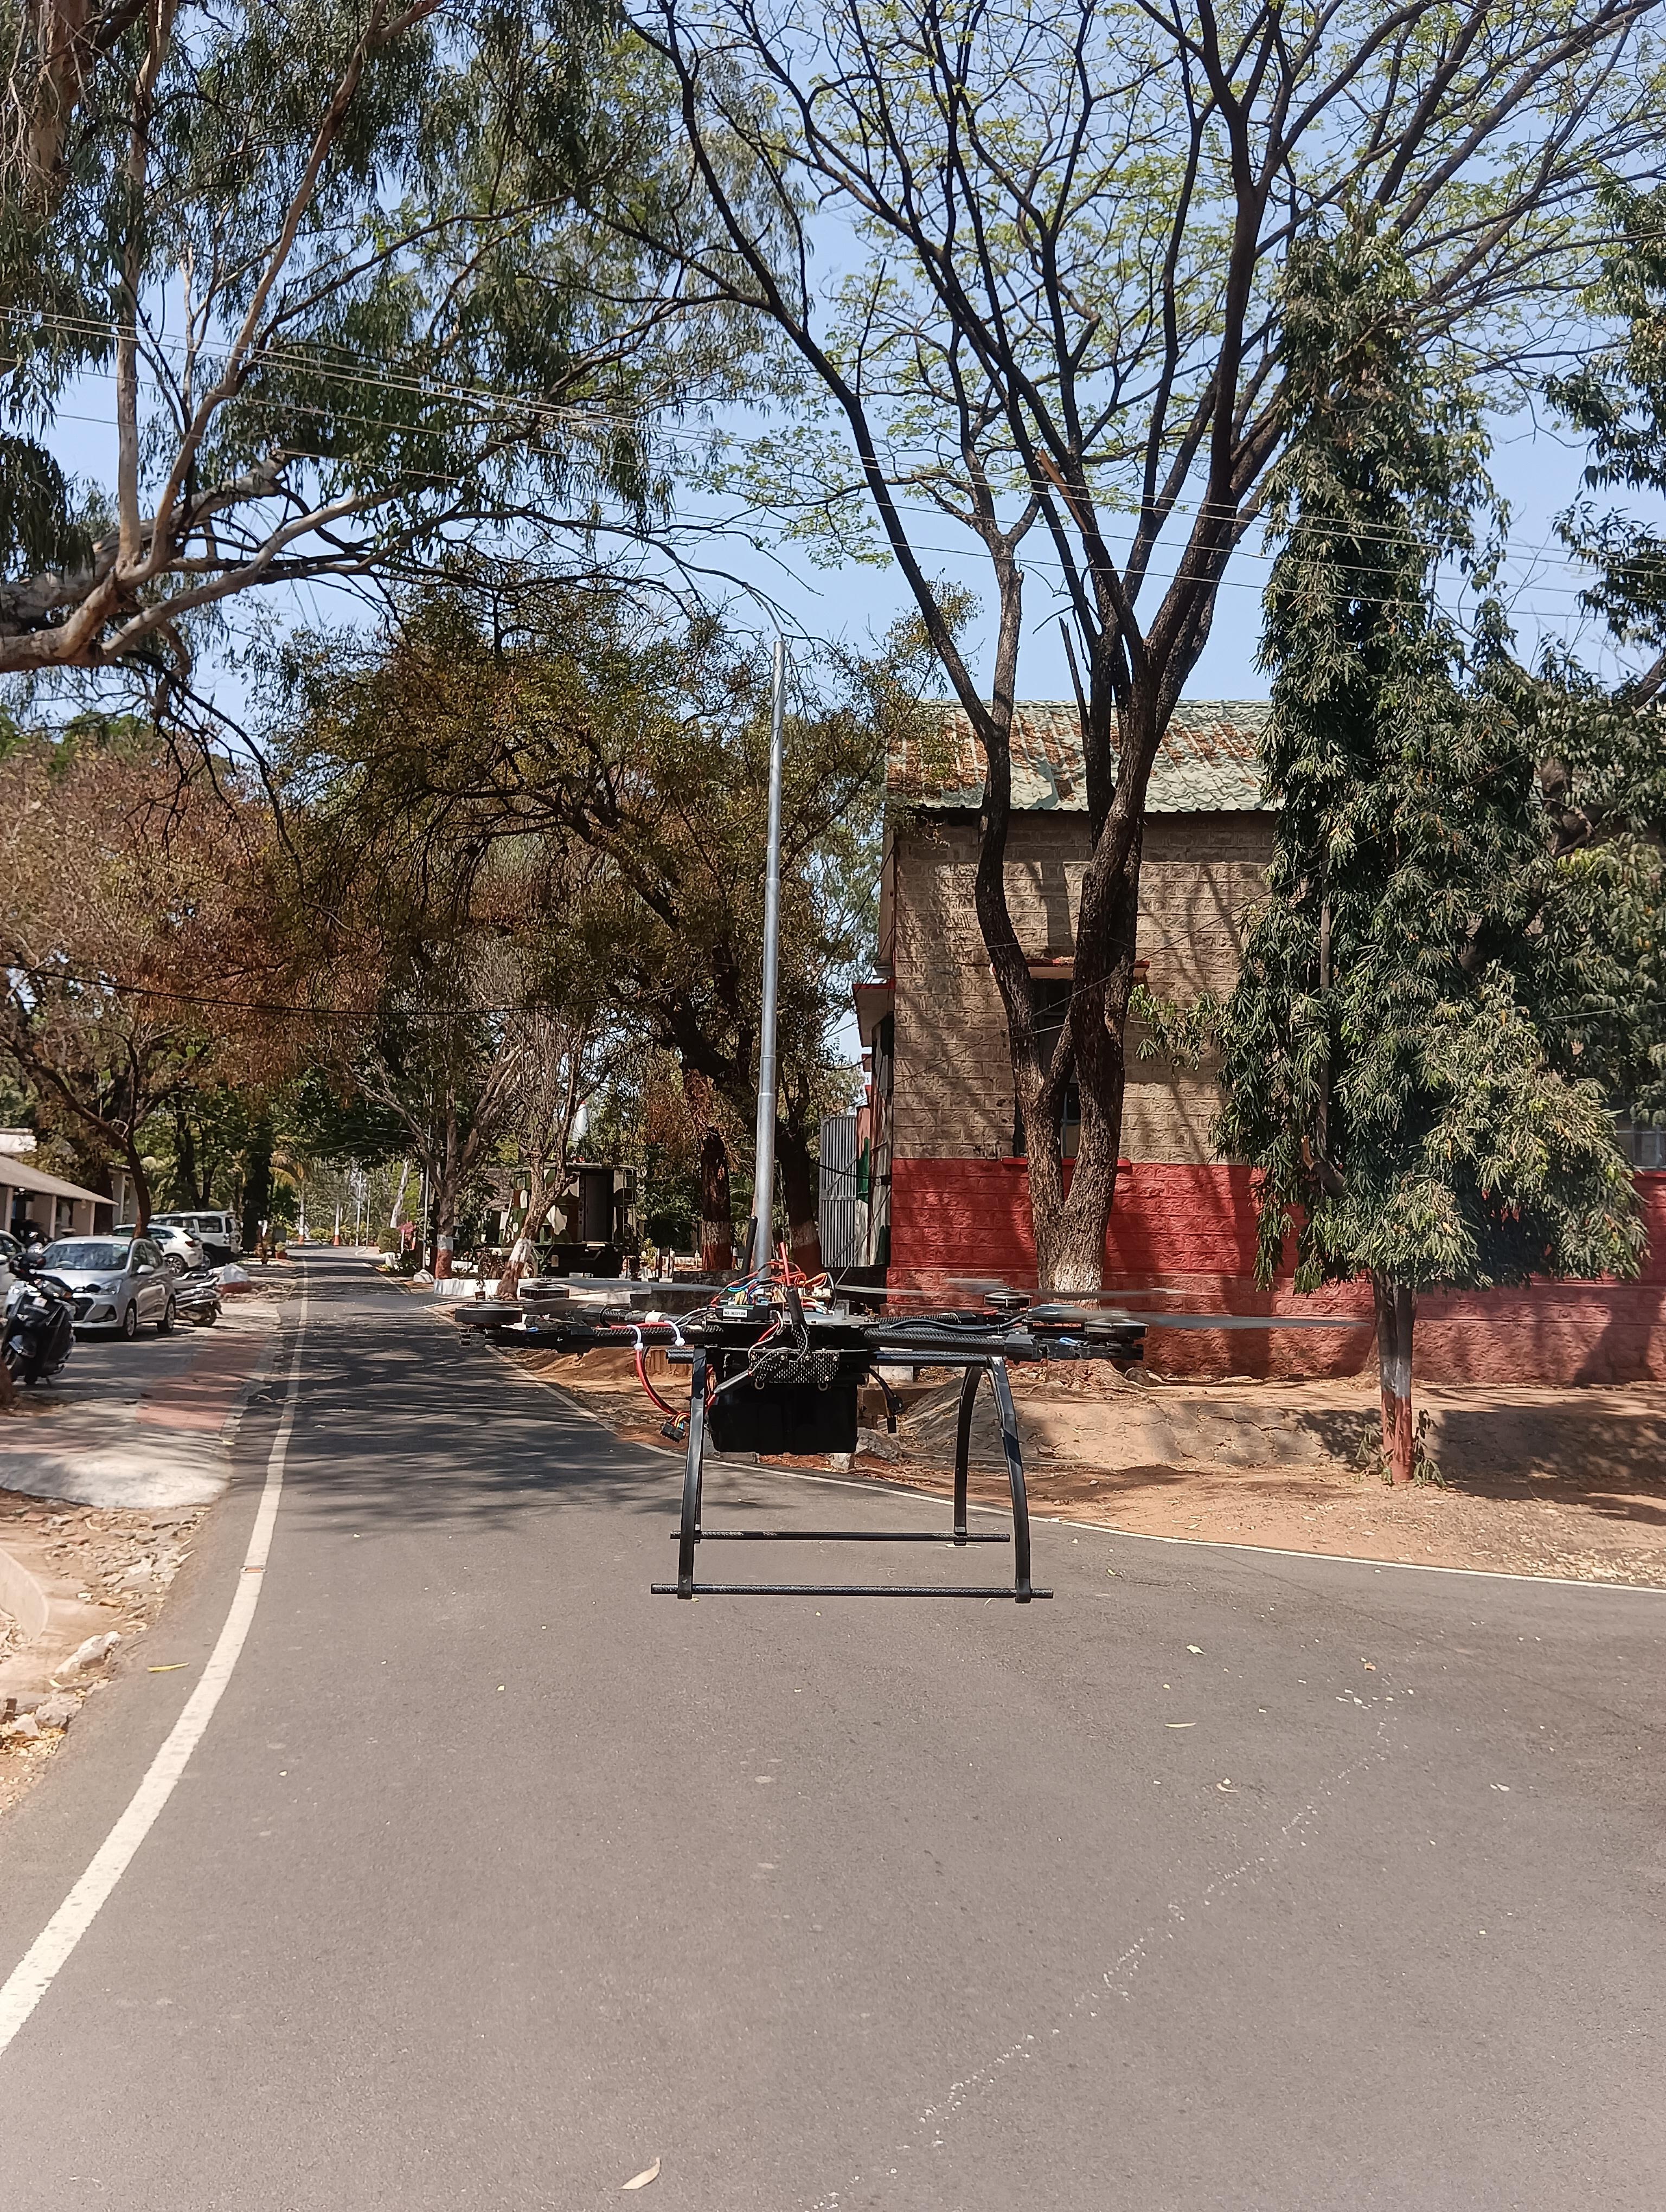drone: (413, 1183, 1432, 1681)
